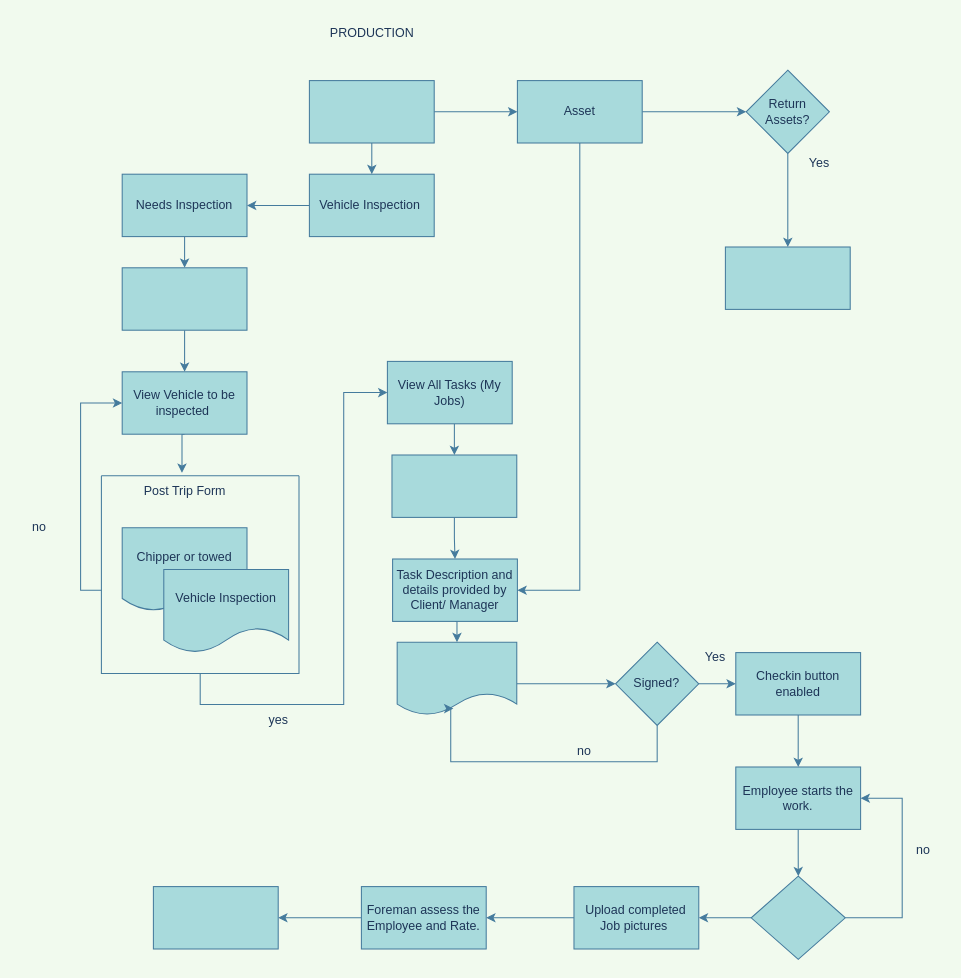
The diagram is 961 pixels wide and 978 high, and some of its shapes have lost their labels. The shapes that lost their labels are listed below. From the top down, each one's centre as x and y in pixels, then its label:
At (x=371, y=111): "Categories".
At (x=787, y=277): "Sent to Manager".
At (x=184, y=298): "List of vehicles displayed".
At (x=454, y=485): "Prioritize the tasks based on timings".
At (x=456, y=678): "Pre-Job hazards document checklist".
At (x=215, y=917): "Checkout".
At (x=797, y=917): "Work completed?".
